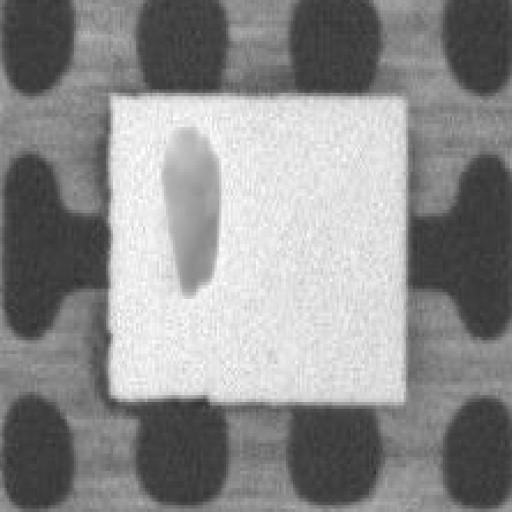DIE_INK: (157, 120, 214, 282)
